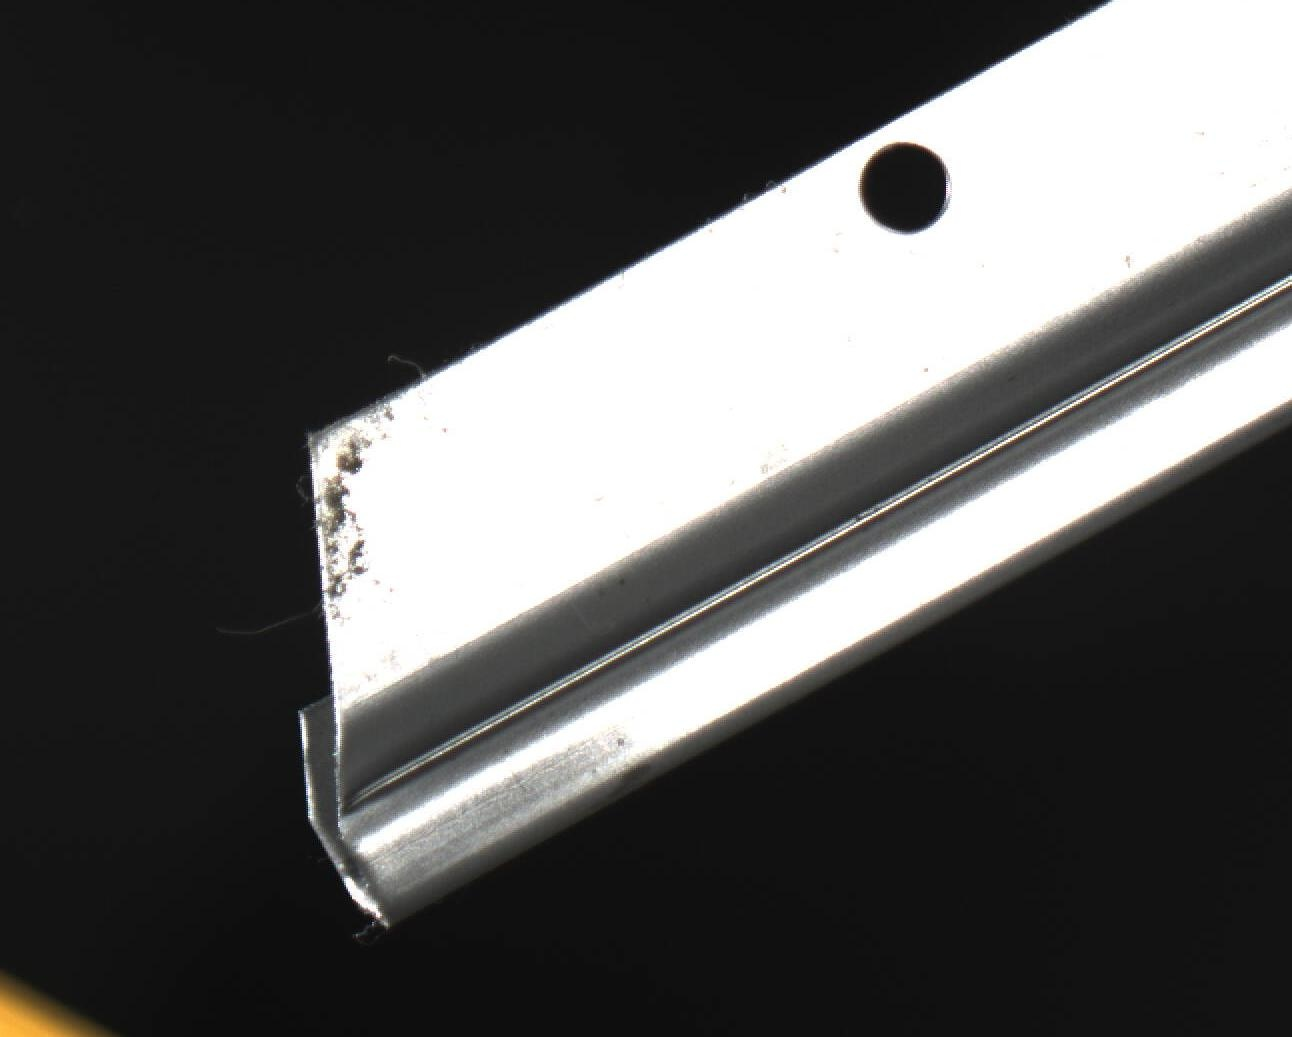cut: (241, 338, 743, 936)
holes: (858, 140, 956, 236)
